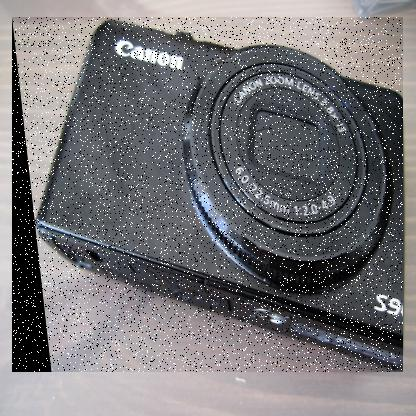Camera: (13, 18, 405, 374)
